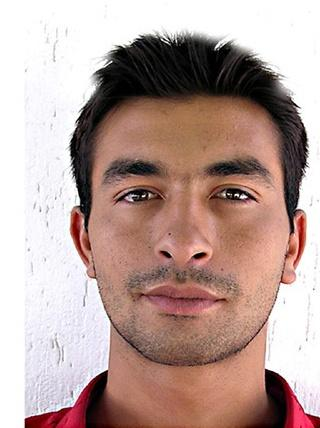No Mask: (32, 7, 320, 406)
